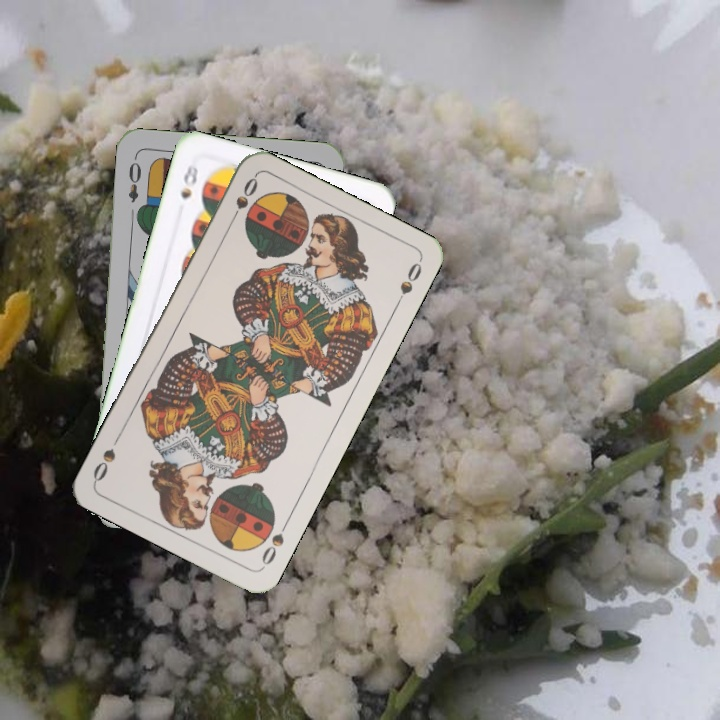EO: (124, 153, 144, 205)
S8: (176, 155, 201, 202)
SO: (225, 173, 261, 228), (257, 516, 292, 571)
